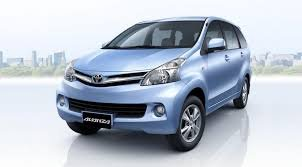mobil: (52, 13, 258, 152)
